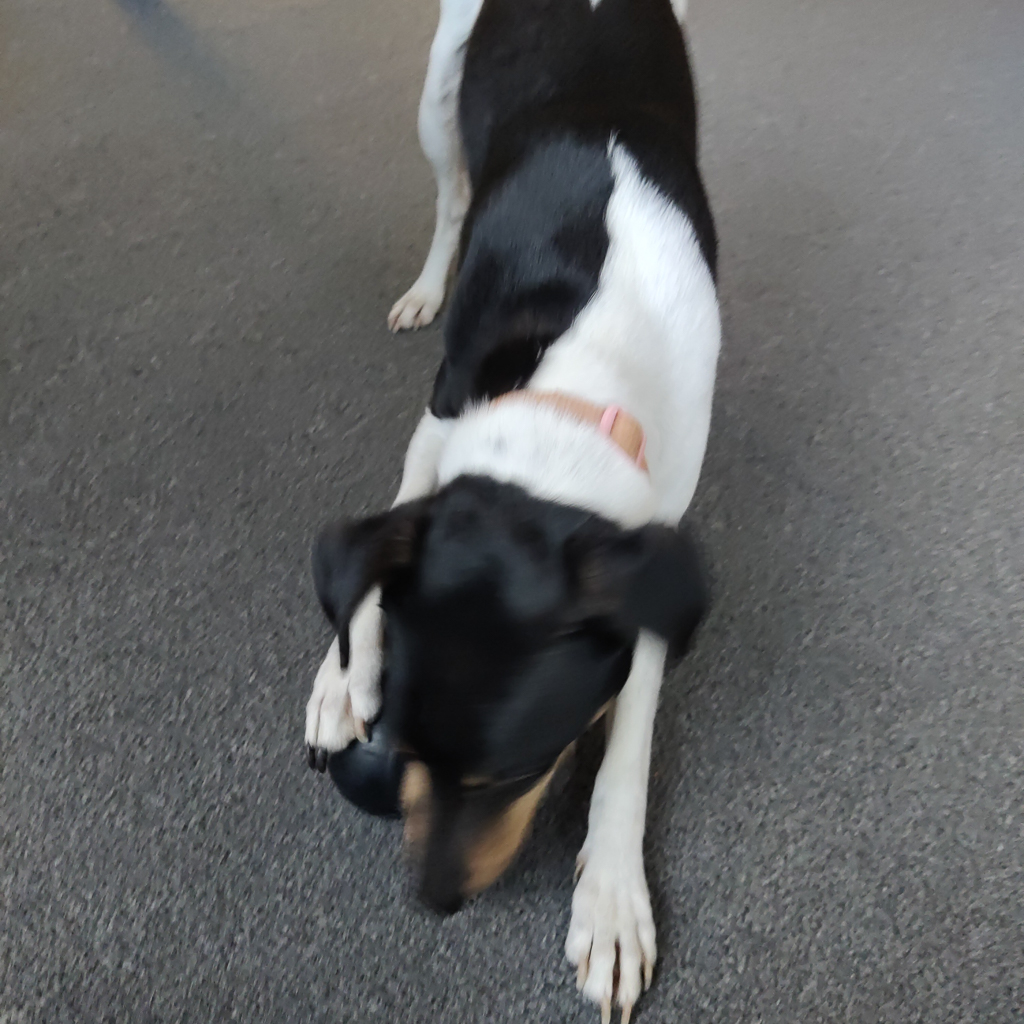Dog: (267, 0, 757, 1024)
